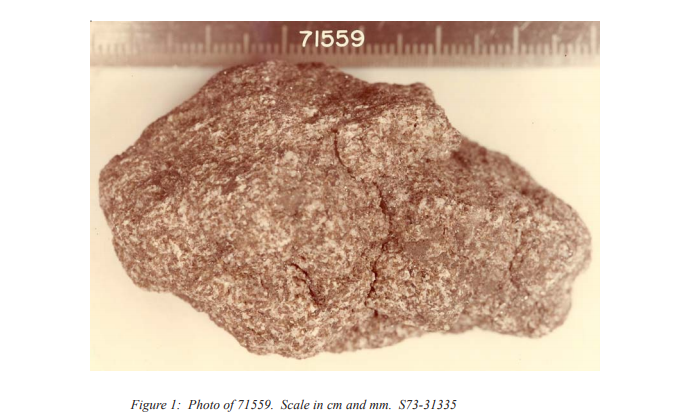Basalt: (112, 72, 587, 347)
